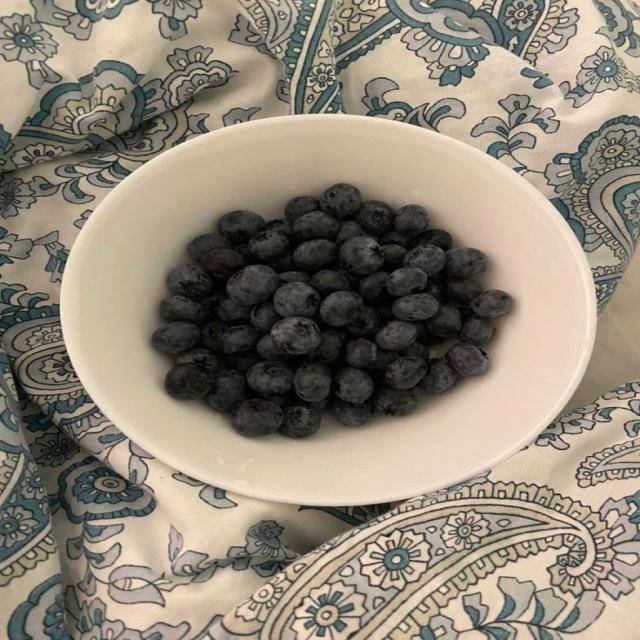blueberry: (227, 265, 279, 305), (233, 400, 283, 437), (271, 317, 321, 354), (165, 363, 213, 399), (340, 237, 384, 275), (206, 370, 246, 411), (247, 361, 293, 395), (152, 321, 200, 353), (218, 211, 266, 243), (274, 283, 319, 317), (167, 265, 213, 298), (320, 291, 363, 326), (320, 183, 361, 219), (294, 239, 338, 272), (294, 364, 331, 401), (419, 359, 458, 394), (385, 356, 426, 389), (201, 248, 246, 278), (446, 344, 488, 376), (293, 211, 339, 240), (160, 295, 206, 324), (355, 201, 393, 236), (335, 368, 373, 403), (188, 233, 232, 262), (393, 294, 439, 321), (280, 406, 320, 437), (404, 245, 445, 275), (247, 231, 288, 261), (175, 348, 222, 374), (374, 387, 417, 415), (309, 329, 345, 362), (387, 267, 427, 296), (376, 321, 416, 350), (446, 248, 486, 277), (426, 305, 461, 338), (472, 290, 513, 318), (444, 277, 482, 306), (346, 306, 382, 336), (394, 205, 428, 236), (459, 316, 494, 346), (222, 325, 258, 354), (333, 400, 373, 426), (311, 270, 351, 296), (410, 229, 453, 251), (346, 338, 378, 367), (359, 272, 388, 304), (285, 196, 319, 223), (250, 303, 280, 333), (201, 321, 227, 352), (256, 335, 287, 360), (198, 293, 226, 320), (226, 351, 263, 371), (217, 299, 250, 321), (335, 221, 365, 244), (370, 349, 399, 371), (382, 244, 406, 270), (269, 250, 295, 273), (420, 325, 448, 346), (401, 341, 429, 360), (267, 219, 293, 238), (294, 398, 329, 412), (379, 231, 407, 248), (425, 276, 443, 302), (264, 394, 291, 411), (376, 304, 396, 324), (279, 271, 311, 283), (234, 243, 251, 262), (412, 321, 427, 341), (429, 271, 446, 287)
